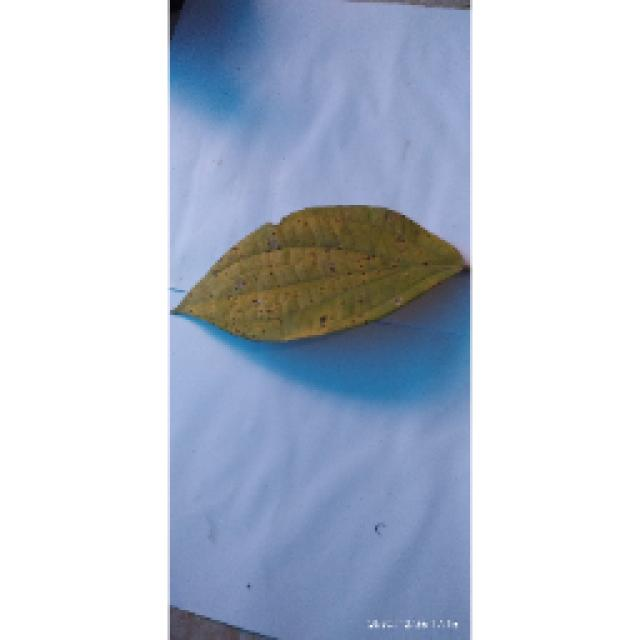slow-decline: (170, 208, 462, 338)
